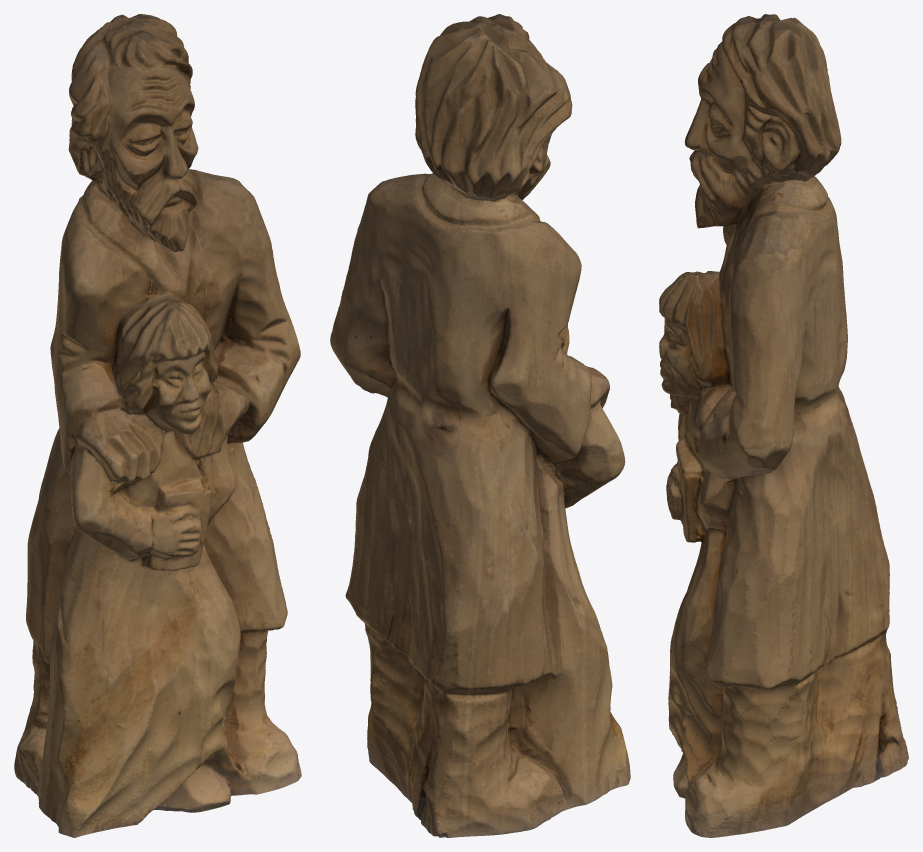
File: MPL_W_E_1486_lowpoly.glb
3 renders of one model, left to right at view 1: azimuth 30°, elevation 25°; view 2: azimuth 150°, elevation 25°; view 3: azimuth 270°, elevation 25°, orthographic.
Visible parts, largest first — view 1: MPL_W_E_1486_lowpoly; view 2: MPL_W_E_1486_lowpoly; view 3: MPL_W_E_1486_lowpoly.
Part boxes in pixels (x1,y1,x2,y2): MPL_W_E_1486_lowpoly: (14,14,301,837); MPL_W_E_1486_lowpoly: (330,14,630,837); MPL_W_E_1486_lowpoly: (659,14,908,837).
Size of the model in its own units: 0.1246 by 0.3418 by 0.1026.
Materials: 1 (1 with a texture image).
